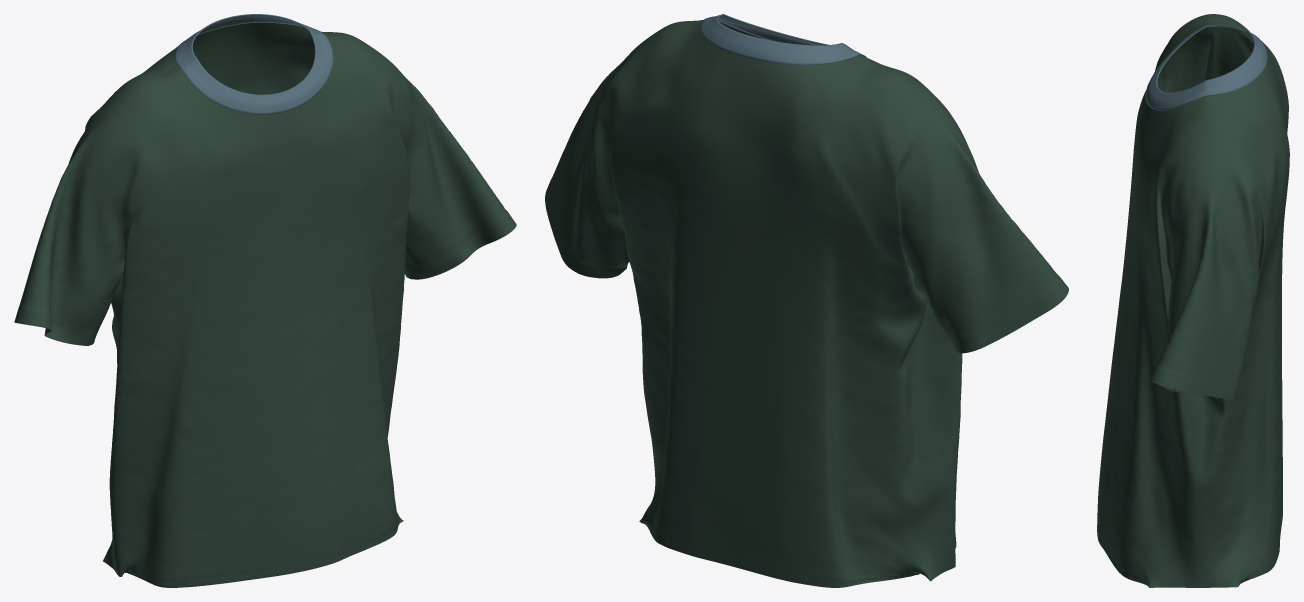
File: tee-studio.glb
The picture shows the model from 3 angles, left to right: view 1: azimuth 30°, elevation 25°; view 2: azimuth 150°, elevation 25°; view 3: azimuth 270°, elevation 25°; orthographic projection. The views are drawn at different scales.
Visible parts, largest first — view 1: BROCKCREATIVE SHIRT, Refined Studio ribbed collar; view 2: BROCKCREATIVE SHIRT, Refined Studio ribbed collar; view 3: BROCKCREATIVE SHIRT, Refined Studio ribbed collar.
Boxes of the visible parts, x1,y1,x2,y2 form: BROCKCREATIVE SHIRT: [14, 22, 516, 587]; Refined Studio ribbed collar: [174, 14, 333, 114]; BROCKCREATIVE SHIRT: [545, 20, 1068, 587]; Refined Studio ribbed collar: [699, 14, 866, 65]; BROCKCREATIVE SHIRT: [1097, 14, 1289, 587]; Refined Studio ribbed collar: [1145, 24, 1268, 111].
Bounding box in the file's own units: 1.87 × 1.79 × 0.6439.
